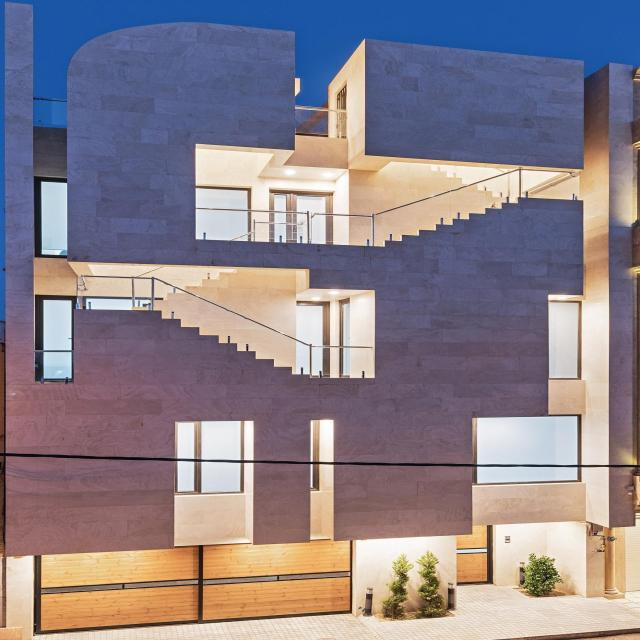door: (456, 525, 495, 586)
railing: (74, 274, 374, 378), (194, 167, 579, 248)
window: (473, 416, 580, 485), (175, 420, 244, 495), (34, 296, 74, 380), (548, 301, 584, 379), (34, 177, 68, 258), (295, 105, 349, 140), (267, 189, 333, 212), (300, 301, 331, 343), (196, 188, 251, 207)
